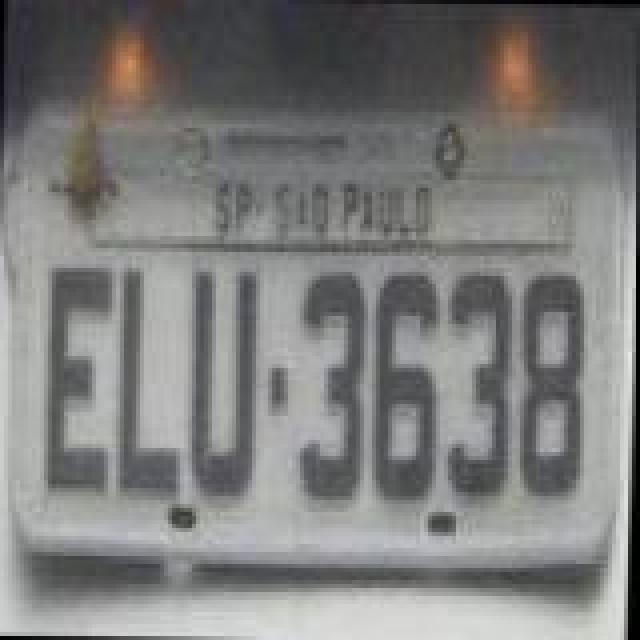3: (290, 264, 374, 504), (442, 270, 518, 506)
6: (366, 266, 442, 502)
8: (518, 268, 594, 500)
E: (46, 258, 122, 494)
L: (114, 262, 190, 490)
U: (188, 266, 268, 502)
